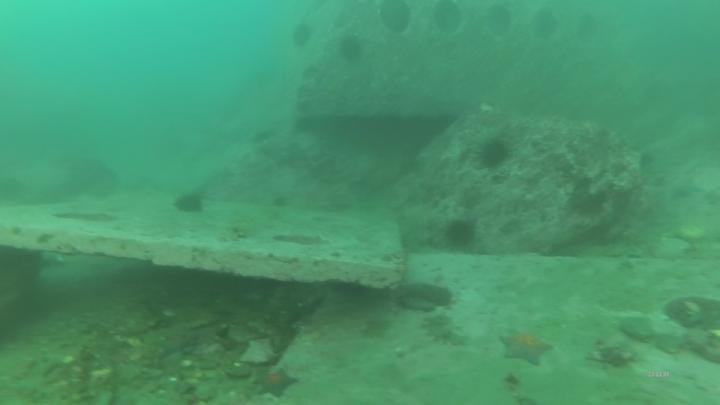echinus: (443, 215, 482, 249), (476, 136, 510, 170), (169, 190, 207, 216), (338, 34, 366, 63), (292, 23, 315, 51)
starfish: (502, 325, 554, 367), (257, 365, 299, 401), (151, 333, 199, 364)
